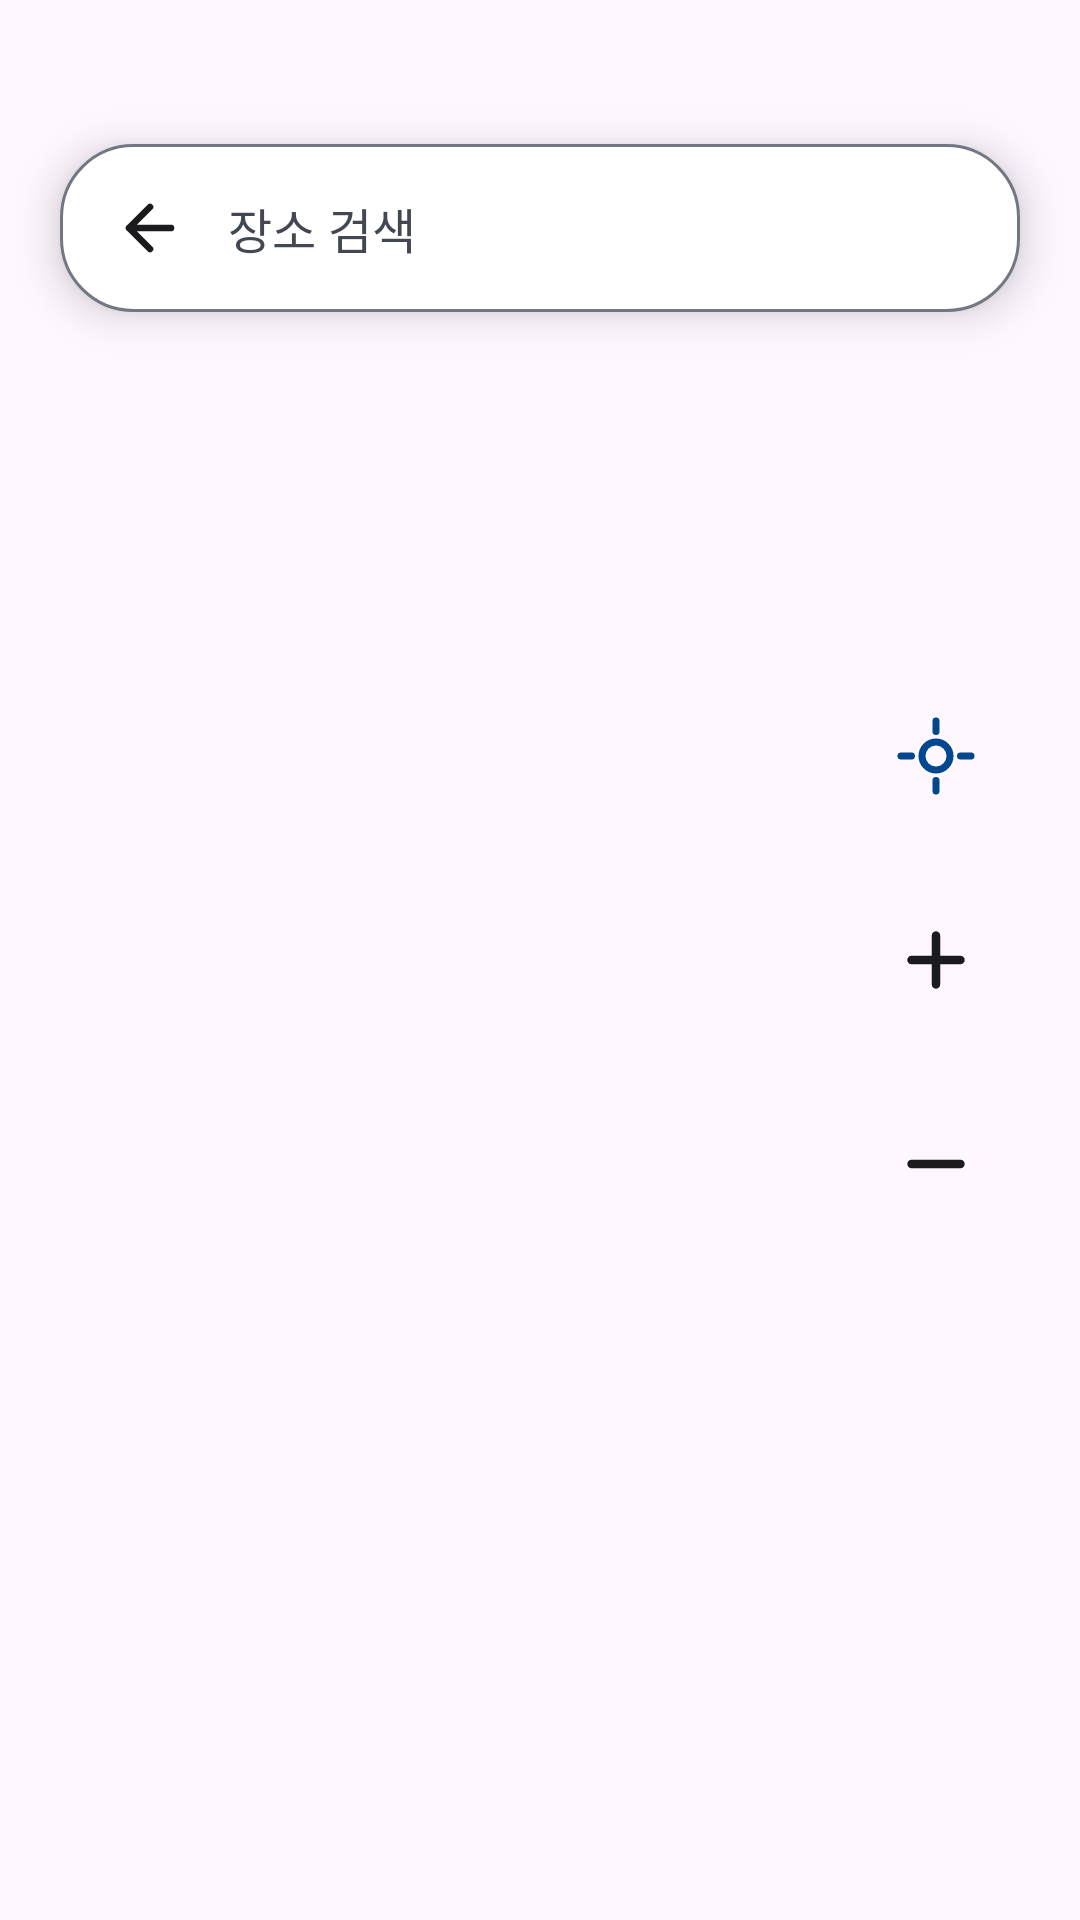

Icon click points for this 1080*1920 phone screenshot, format [x,y]:
뒤로가기: [150,228]
축소: [936,1164]
현재 위치: [936,756]
확대: [936,960]
